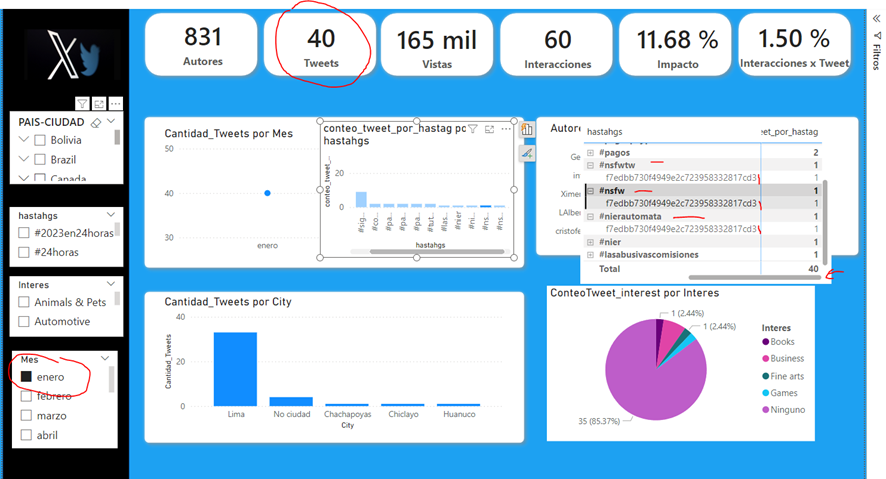

The dashboard page shown, as its layout file describes it:
{"tool":"powerbi","page":{"name":"Tweets","canvas":[1280,720],"ordinal":1},"visuals":[{"type":"shape","box":[0,0,202.5,720.2],"z":0},{"type":"image","box":[27.2,0,152.8,108.8],"z":1000},{"type":"shape","box":[823.3,196,456.7,241.9],"z":2000},{"type":"shape","box":[202.5,196,362,241.9],"z":3000},{"type":"shape","box":[203.5,445.4,357.3,241.9],"z":4000},{"type":"lineChart","title":"Tweets por mes","fields":{"Y":["MEDIDAS.Cantidad_Tweets"],"Category":["CALENDARIO.Date.Variación.Jerarquía de fechas.Año","CALENDARIO.Date.Variación.Jerarquía de fechas.Mes"]},"box":[220.4,212.9,332.9,208.2],"z":5000},{"type":"clusteredBarChart","title":"Autores con más visualizaciones","fields":{"Y":["MEDIDAS.Top 5 Autores Reach"],"Category":["AUTOR.Author"]},"box":[845.8,215.7,412.6,202.5],"z":6000},{"type":"shape","box":[553.3,0,184.4,110.8],"z":7000},{"type":"shape","box":[203.1,0,184.4,110.8],"z":8000},{"type":"shape","box":[379.5,0,184.4,110.8],"z":9000},{"type":"shape","box":[730.6,0,184.4,110.8],"z":10000},{"type":"shape","box":[907.1,0,184.4,110.8],"z":11000},{"type":"shape","box":[1084.4,0,184.4,110.8],"z":12000},{"type":"card","fields":{"Values":["MEDIDAS.Cantidad_Tweets"]},"box":[394.1,14,159.6,82.8],"z":13000},{"type":"card","fields":{"Values":["MEDIDAS.Reach"]},"box":[572.7,19,145.7,77.8],"z":14000},{"type":"card","fields":{"Values":["MEDIDAS.Total Interacciones"]},"box":[738.3,14,172.6,85.8],"z":15000},{"type":"card","fields":{"Values":["MEDIDAS.interaciones_tweet"]},"box":[1081.5,0,189.6,110.7],"z":16000},{"type":"card","fields":{"Values":["MEDIDAS.Impact"]},"box":[914.9,12,176.6,89.8],"z":17000},{"type":"slicer","fields":{"Values":["AUTOR.Country","CIUDAD.City"]},"box":[9.1,334.6,188.5,111.9],"z":18000},{"type":"slicer","fields":{"Values":["HASTAG.hastahgs"]},"box":[10.9,453.6,186.4,113.6],"z":19000},{"type":"slicer","fields":{"Values":["INTEREST.Interes"]},"box":[10.9,575.5,186.4,121.8],"z":20000},{"type":"slicer","fields":{"Values":["CALENDARIO.Date.Variación.Jerarquía de fechas.Mes"]},"box":[11.1,210.6,185.4,117.9],"z":21000},{"type":"card","fields":{"Values":["MEDIDAS.cant_autores_actual"]},"box":[204.5,6.5,177.5,98.5],"z":22000},{"type":"clusteredColumnChart","title":"Interés por ciudad","fields":{"Category":["CIUDAD.City"],"Y":["MEDIDAS.ConteoTweet_interest"]},"box":[215.7,458.5,328.2,215.7],"z":23000},{"type":"shape","box":[560.8,196,263.5,241.9],"z":24000},{"type":"clusteredColumnChart","title":"#Hashtags","fields":{"Y":["MEDIDAS.conteo_tweet_hastag"],"Category":["HASTAG.hastahgs"]},"box":[578.6,211,227.9,211.9],"z":25000},{"type":"shape","box":[921.3,445,359.1,242.1],"z":26000},{"type":"shape","box":[559.8,446.4,361,241],"z":27000},{"type":"pieChart","title":"Intereses","fields":{"Category":["INTEREST.Interes","TWEET.Resource Id"],"Y":["MEDIDAS.ConteoTweet_interest"]},"box":[578.6,459.5,328.2,215.7],"z":28000},{"type":"pieChart","title":"Cantidad de tweets por pais","fields":{"Category":["PAIS.Country"],"Y":["MEDIDAS.Cantidad_Tweets"]},"box":[949,459.5,303.8,215.7],"z":29000},{"type":"pageNavigator","box":[397.7,134.4,683.4,49.3],"z":30000},{"type":"textFilter25A4896A83E0487089E2B90C9AE57C8A","fields":{"field":["AUTOR.Author"]},"box":[8.1,113.9,185.4,90.7],"z":31000}]}

Visuals, with their boxes on the page's 1280x720 design canvas (x1, y1, x2, y2). These are canvas units, not pixel positions in the 886x479 screenshot, which may show the page scaled, cropped or inside an application window:
shape: [left=0, top=0, right=202, bottom=720]
image: [left=27, top=0, right=180, bottom=109]
shape: [left=823, top=196, right=1280, bottom=438]
shape: [left=202, top=196, right=564, bottom=438]
shape: [left=204, top=445, right=561, bottom=687]
"Tweets por mes" lineChart: [left=220, top=213, right=553, bottom=421]
"Autores con más visualizaciones" clusteredBarChart: [left=846, top=216, right=1258, bottom=418]
shape: [left=553, top=0, right=738, bottom=111]
shape: [left=203, top=0, right=388, bottom=111]
shape: [left=380, top=0, right=564, bottom=111]
shape: [left=731, top=0, right=915, bottom=111]
shape: [left=907, top=0, right=1092, bottom=111]
shape: [left=1084, top=0, right=1269, bottom=111]
card - MEDIDAS.Cantidad_Tweets: [left=394, top=14, right=554, bottom=97]
card - MEDIDAS.Reach: [left=573, top=19, right=718, bottom=97]
card - MEDIDAS.Total Interacciones: [left=738, top=14, right=911, bottom=100]
card - MEDIDAS.interaciones_tweet: [left=1082, top=0, right=1271, bottom=111]
card - MEDIDAS.Impact: [left=915, top=12, right=1092, bottom=102]
slicer - AUTOR.Country x CIUDAD.City: [left=9, top=335, right=198, bottom=446]
slicer - HASTAG.hastahgs: [left=11, top=454, right=197, bottom=567]
slicer - INTEREST.Interes: [left=11, top=576, right=197, bottom=697]
slicer - CALENDARIO.Date.Variación.Jerarquía de fechas.Mes: [left=11, top=211, right=196, bottom=328]
card - MEDIDAS.cant_autores_actual: [left=204, top=6, right=382, bottom=105]
"Interés por ciudad" clusteredColumnChart: [left=216, top=458, right=544, bottom=674]
shape: [left=561, top=196, right=824, bottom=438]
"#Hashtags" clusteredColumnChart: [left=579, top=211, right=806, bottom=423]
shape: [left=921, top=445, right=1280, bottom=687]
shape: [left=560, top=446, right=921, bottom=687]
"Intereses" pieChart: [left=579, top=460, right=907, bottom=675]
"Cantidad de tweets por pais" pieChart: [left=949, top=460, right=1253, bottom=675]
pageNavigator: [left=398, top=134, right=1081, bottom=184]
textFilter25A4896A83E0487089E2B90C9AE57C8A - AUTOR.Author: [left=8, top=114, right=194, bottom=205]
